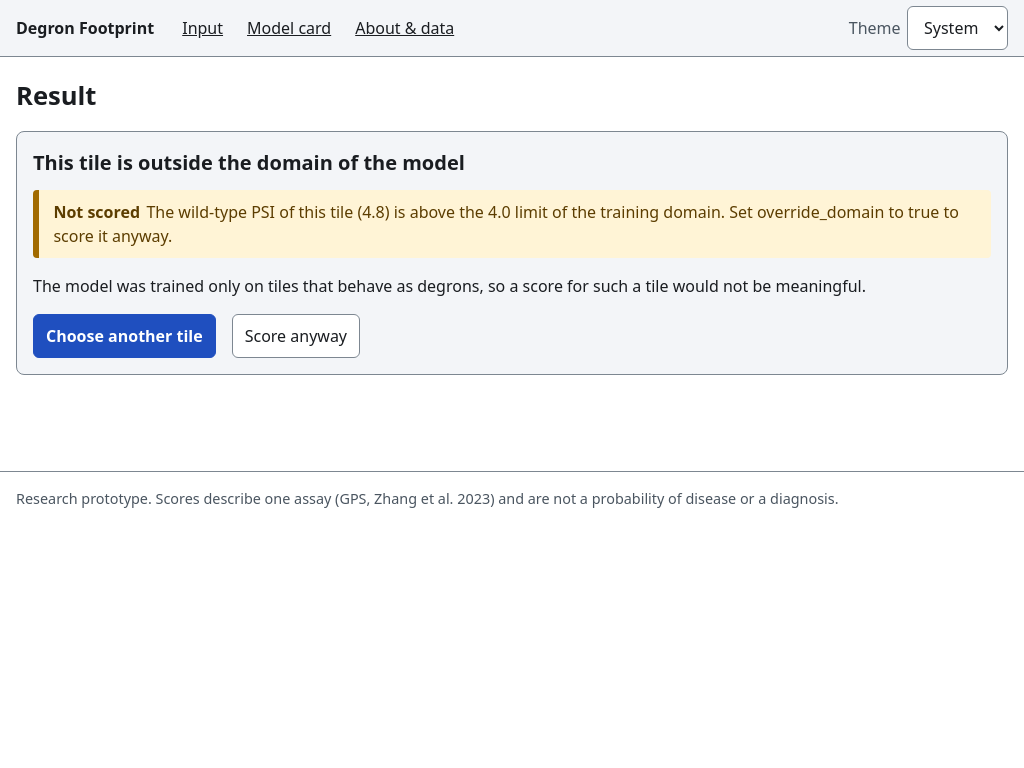
Test case: E2E-09 out of domain › "Choose another tile" returns to the tile picker
The width and height of the screenshot is (1024, 768).
Click the button "Choose another tile".
click(124, 336)  # box 33,314 -> 216,358
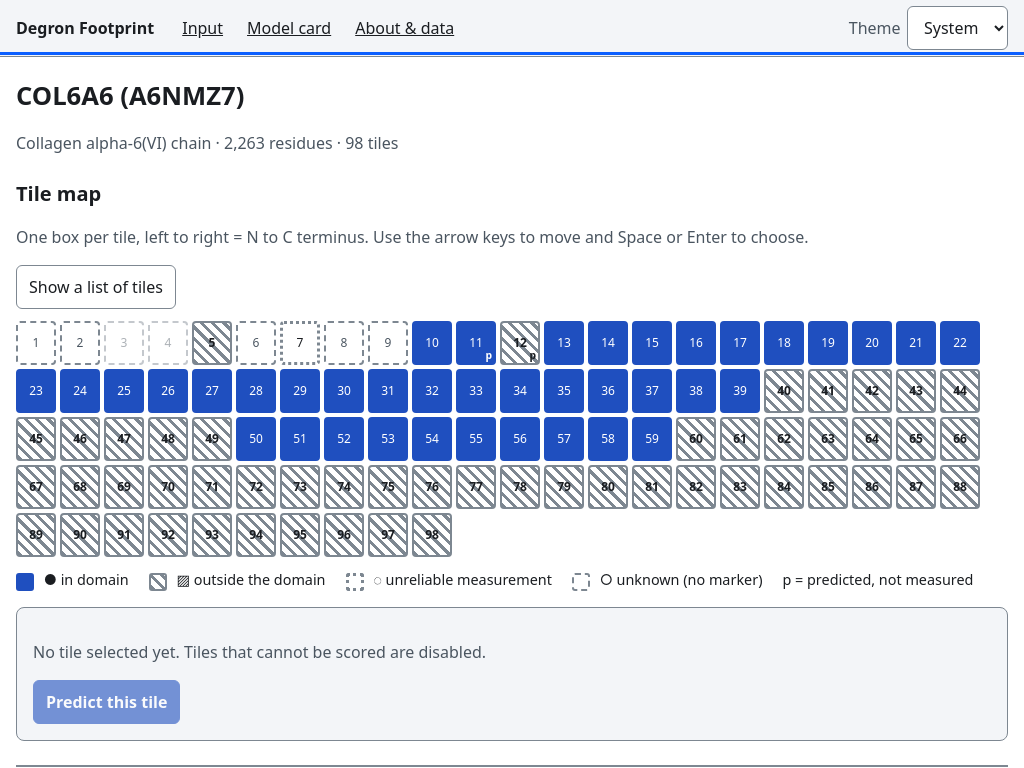
Expected: the heading "COL6A6 (A6NMZ7)" is shown, 16,78 -> 244,113
